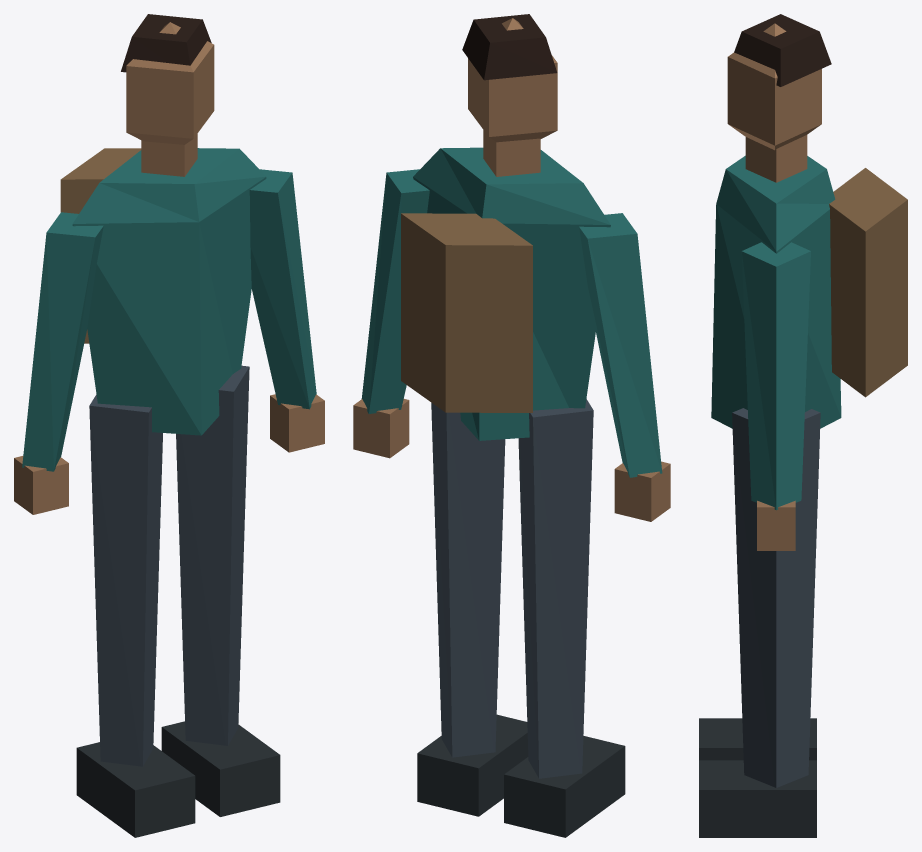
File: pedestrian-commuter.lod1.glb
The picture shows the model from 3 angles, left to right: view 1: azimuth 30°, elevation 25°; view 2: azimuth 150°, elevation 25°; view 3: azimuth 270°, elevation 25°; orthographic projection. The views are drawn at different scales.
Visible parts, largest first — view 1: pedestrian-body; view 2: pedestrian-body; view 3: pedestrian-body.
Part boxes in pixels (bbox=[...]): pedestrian-body: bbox=[14, 14, 324, 837]; pedestrian-body: bbox=[353, 14, 670, 837]; pedestrian-body: bbox=[699, 14, 907, 837].
Bounding box in the file's own units: 0.7124 × 1.78 × 0.4325.
